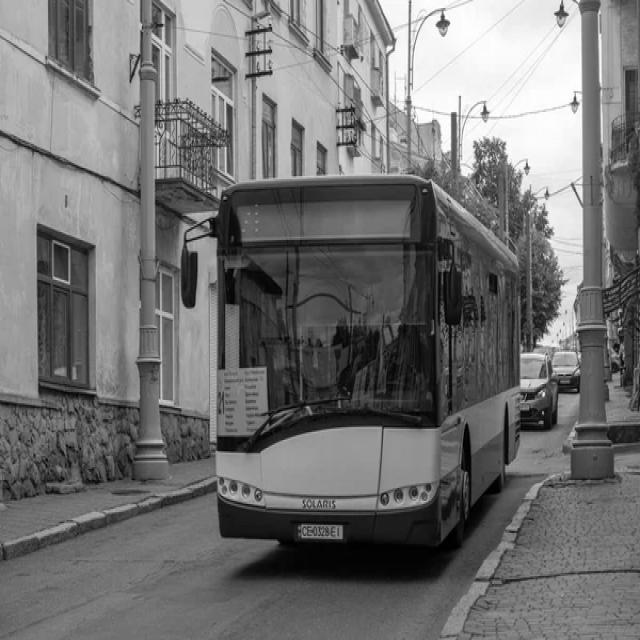Bus: (182, 176, 520, 546)
Car: (522, 354, 559, 429), (554, 334, 581, 392)
